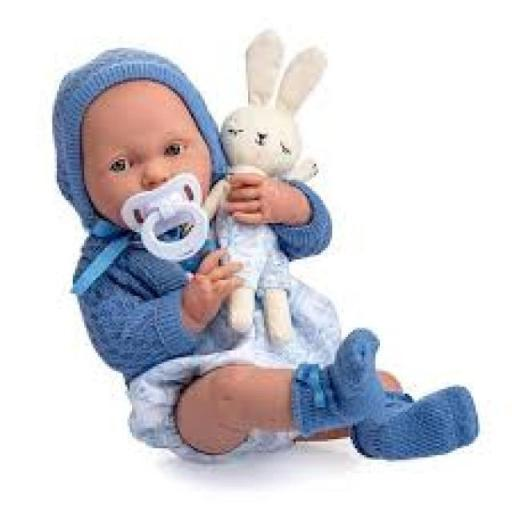baby: (50, 48, 480, 462)
